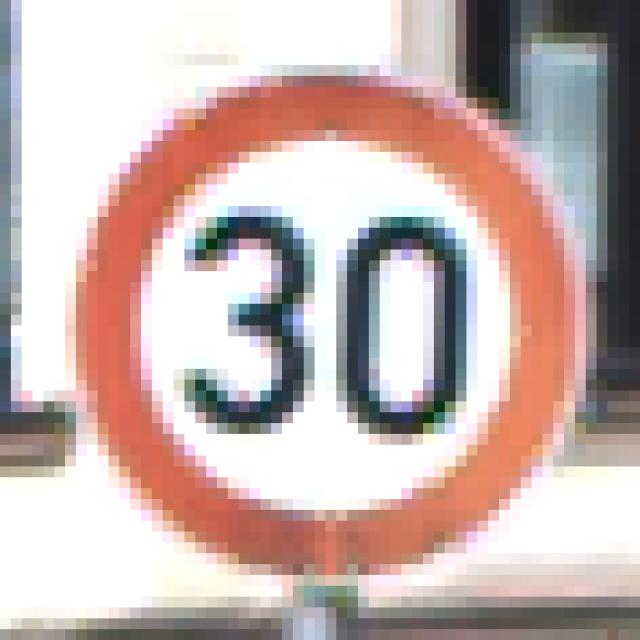Speed Limit -30-: (54, 49, 564, 580)
